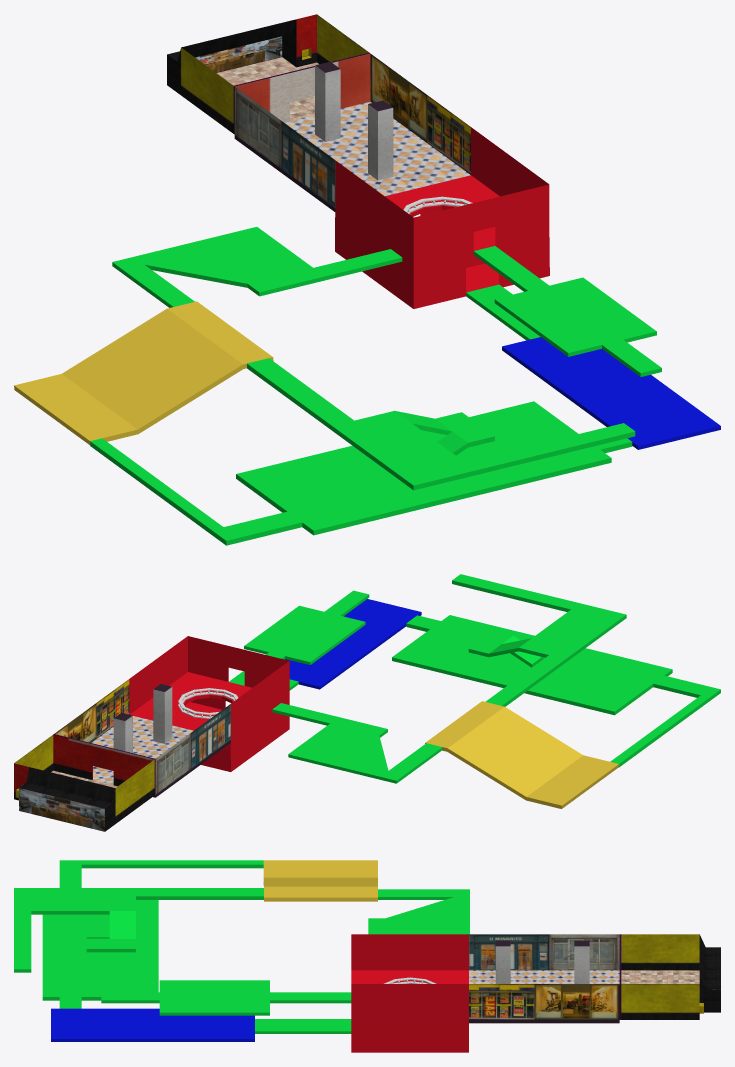
The model's file is mapa_provisional.fbx.
3 views of the same model, one above another, from view 1: azimuth 30°, elevation 25°; view 2: azimuth 150°, elevation 25°; view 3: azimuth 270°, elevation 25° (orthographic). The views are drawn at different scales.
Parts seen in each view (by area): view 1: Pasillo_VC_TH, Pasillo_CC_MD, TH, Suelo_Segunda_Planta, MC, Pasillo_DC_TH, VC, Pasillo_CC_TH, Pasillo_CC_DC, Suelo_Primera_Planta, Pasillo_CC_VC; view 2: Pasillo_VC_TH, TH, MC, Suelo_Segunda_Planta, Pasillo_CC_MD, Pasillo_DC_TH, Pasillo_CC_TH, Pasillo_CC_DC, VC, Suelo_Primera_Planta; view 3: Pasillo_CC_MD, Pasillo_VC_TH, Suelo_Segunda_Planta, MC, Pasillo_DC_TH, VC, Pasillo_CC_DC, TH, Pasillo_CC_TH, Suelo_Primera_Planta, Pasillo_CC_VC.
Boxes of the visible parts, x1,y1,x2,y2 form: Pasillo_VC_TH: (90,401,632,545); Pasillo_CC_MD: (234,54,470,211); TH: (14,301,273,445); Suelo_Segunda_Planta: (335,127,549,269); MC: (167,14,370,134); Pasillo_DC_TH: (247,358,635,490); VC: (502,337,720,449); Pasillo_CC_TH: (112,227,402,307); Pasillo_CC_DC: (473,246,661,376); Suelo_Primera_Planta: (335,210,549,308); Pasillo_CC_VC: (466,284,540,340); Pasillo_VC_TH: (392,615,720,767); TH: (425,701,618,808); MC: (14,734,155,831); Suelo_Segunda_Planta: (129,636,289,742); Pasillo_CC_MD: (54,679,230,797); Pasillo_DC_TH: (452,574,626,706); Pasillo_CC_TH: (272,703,442,783); Pasillo_CC_DC: (229,590,369,685); VC: (285,599,421,689); Suelo_Primera_Planta: (185,698,289,771); Pasillo_CC_MD: (469,934,619,1023); Pasillo_VC_TH: (42,860,263,1008); Suelo_Segunda_Planta: (351,934,468,1023); MC: (619,934,720,1019); Pasillo_DC_TH: (14,888,263,972); VC: (51,1008,254,1041); Pasillo_CC_DC: (101,980,351,1015); TH: (263,860,377,901); Pasillo_CC_TH: (368,889,469,934); Suelo_Primera_Planta: (351,1023,468,1052); Pasillo_CC_VC: (255,1019,351,1033).
Bounding box in the file's own units: 7707 × 1612 × 12159.
6 materials, 2 textured.
